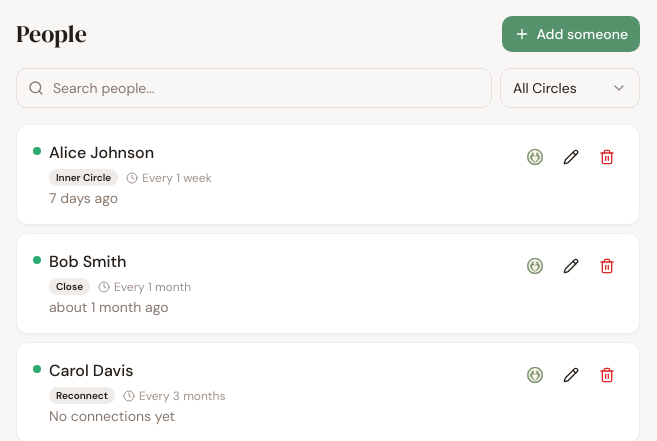
Scenario: People Page › filters contacts by search text
Type "alice" into the field with placeholder "Search people..." at coordinates (254, 88), box [16,68,492,108]
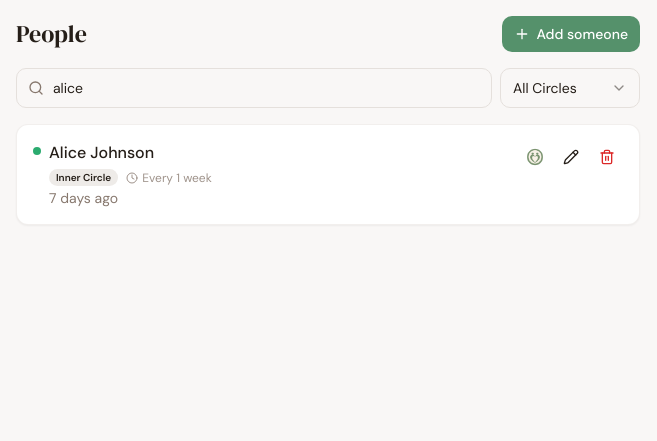
Check: the text "Alice Johnson" is shown, box [49,141,154,165]
Check: the text "Bob Smith" is gone
